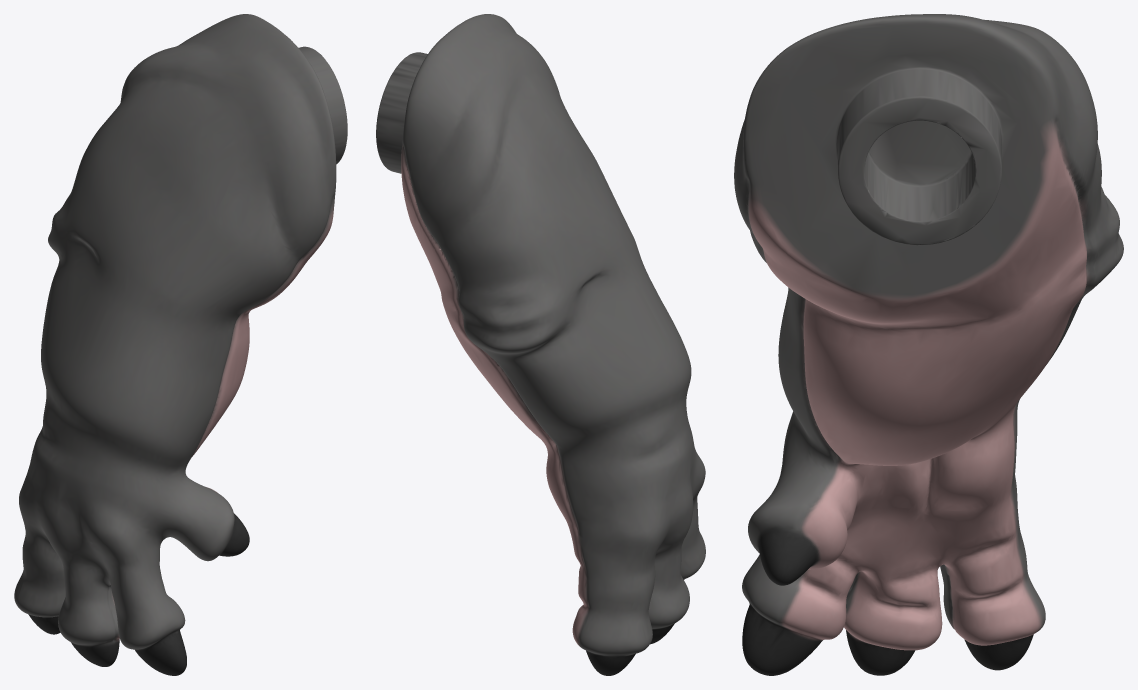
The model's file is Bras_Hippopotame_rg.glb.
3 views of the same model, side by side, from view 1: azimuth 30°, elevation 25°; view 2: azimuth 150°, elevation 25°; view 3: azimuth 270°, elevation 25° (orthographic). The views are drawn at different scales.
Visible parts, largest first — view 1: Bras_Hippopotame_rg; view 2: Bras_Hippopotame_rg; view 3: Bras_Hippopotame_rg.
Part boxes in pixels (box(x1,y1,x2,y2)): Bras_Hippopotame_rg: box(14, 14, 347, 675); Bras_Hippopotame_rg: box(376, 14, 705, 675); Bras_Hippopotame_rg: box(734, 14, 1123, 675).
Size of the model in its own units: 2.22 by 4.47 by 2.03.
